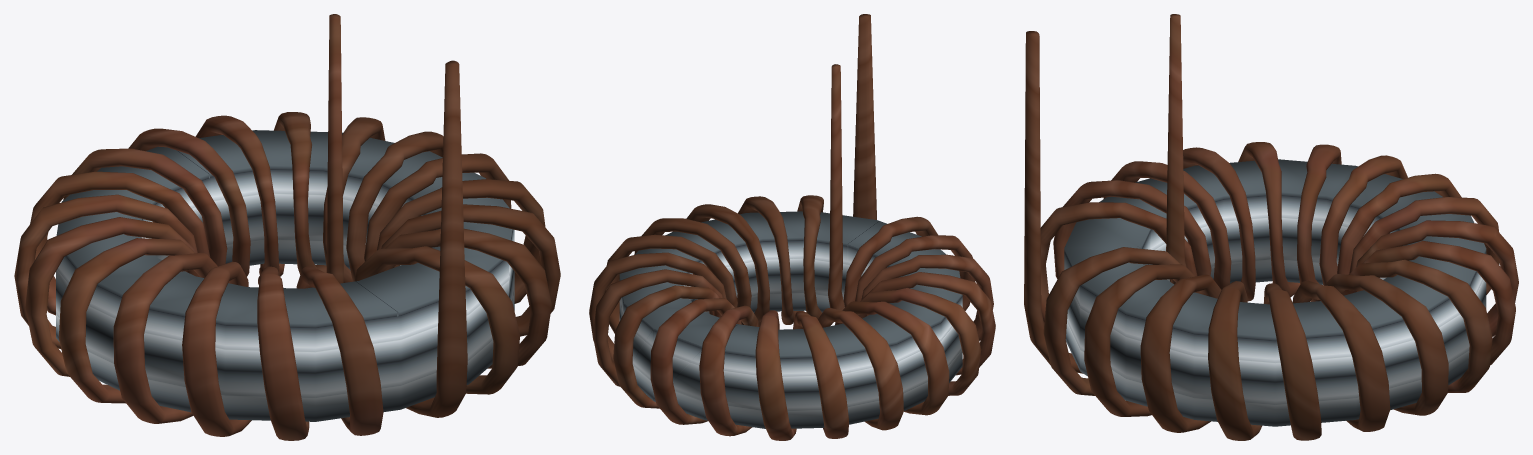
The model's file is Bobina.glb.
The picture shows the model from 3 angles, left to right: view 1: azimuth 30°, elevation 25°; view 2: azimuth 150°, elevation 25°; view 3: azimuth 270°, elevation 25°; orthographic projection. The views are drawn at different scales.
Visible parts, largest first — view 1: Object; view 2: Object; view 3: Object.
Boxes of the visible parts, x1=… form: Object: x1=14, y1=14, x2=560, y2=440; Object: x1=589, y1=14, x2=995, y2=440; Object: x1=1024, y1=14, x2=1518, y2=440.
Bounding box in the file's own units: 0.1771 × 0.1342 × 0.1769.
Materials: 1 (1 with a texture image).
